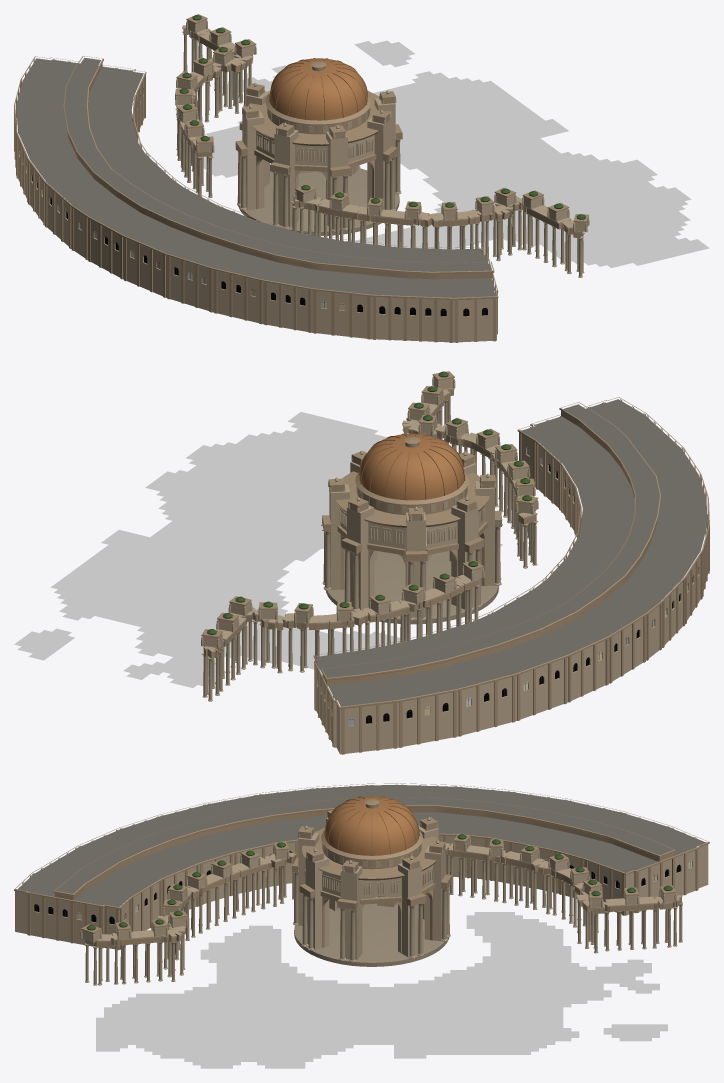
Rendered from pofa_lod0.glb.
3 renders of one model, top to bottom at view 1: azimuth 30°, elevation 25°; view 2: azimuth 150°, elevation 25°; view 3: azimuth 270°, elevation 25°, orthographic. The views are drawn at different scales.
Visible parts, largest first — view 1: L0_roof, L0_water, L0_stone, L0_stucco, L0_paint, L0_paving, L0_win, L0_leaf, L0_gold; view 2: L0_water, L0_roof, L0_stone, L0_stucco, L0_paint, L0_paving, L0_leaf, L0_win, L0_gold; view 3: L0_water, L0_stone, L0_roof, L0_stucco, L0_paint, L0_paving, L0_leaf, L0_gold, L0_win.
Boxes of the visible parts, left/top/right/bottom form: L0_roof: left=16, top=57, right=495, bottom=297; L0_water: left=203, top=40, right=709, bottom=267; L0_stone: left=175, top=14, right=589, bottom=277; L0_stucco: left=14, top=56, right=498, bottom=342; L0_paint: left=270, top=58, right=367, bottom=120; L0_paving: left=237, top=168, right=399, bottom=235; L0_win: left=32, top=175, right=487, bottom=316; L0_leaf: left=179, top=15, right=585, bottom=219; L0_gold: left=269, top=58, right=367, bottom=120; L0_water: left=14, top=412, right=502, bottom=687; L0_roof: left=316, top=399, right=707, bottom=706; L0_stone: left=201, top=371, right=538, bottom=701; L0_stucco: left=313, top=397, right=709, bottom=754; L0_paint: left=359, top=433, right=464, bottom=500; L0_paving: left=325, top=547, right=498, bottom=624; L0_leaf: left=207, top=371, right=532, bottom=634; L0_win: left=348, top=447, right=698, bottom=725; L0_gold: left=359, top=433, right=465, bottom=500; L0_water: left=96, top=912, right=667, bottom=1068; L0_stone: left=80, top=799, right=682, bottom=985; L0_roof: left=17, top=785, right=705, bottom=906; L0_stucco: left=14, top=783, right=709, bottom=950; L0_paint: left=324, top=796, right=419, bottom=855; L0_paving: left=294, top=903, right=449, bottom=966; L0_leaf: left=86, top=834, right=672, bottom=930; L0_gold: left=324, top=796, right=419, bottom=855; L0_win: left=34, top=851, right=692, bottom=924.
Bounding box in the file's own units: 214 × 55.33 × 259.
